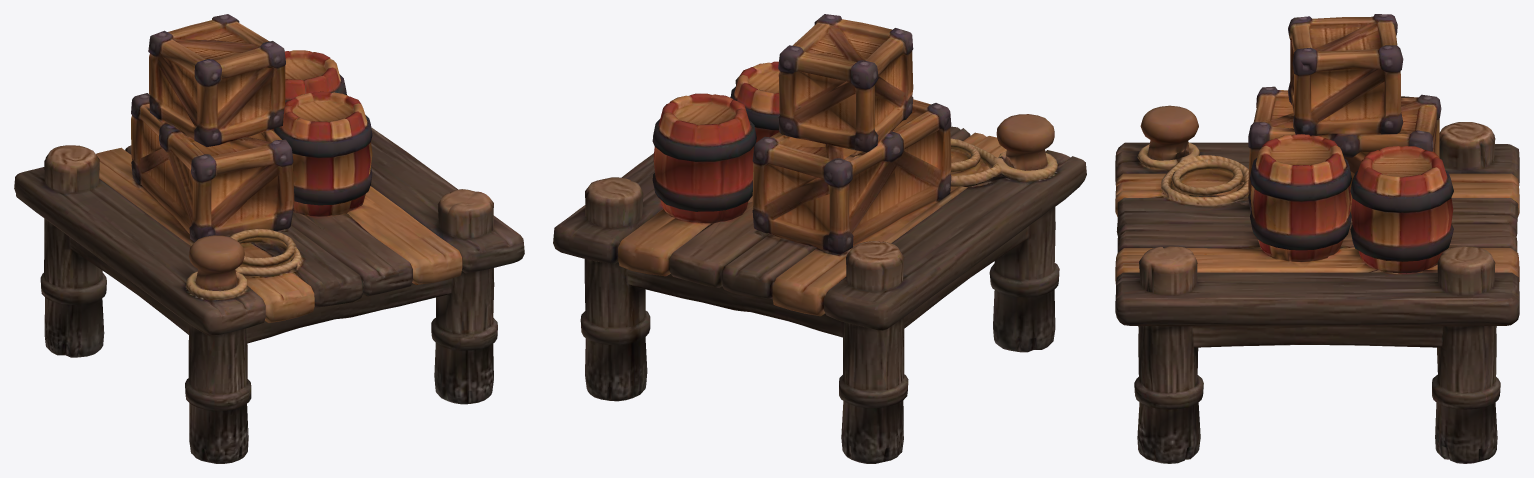
File: dock.glb
The picture shows the model from 3 angles, left to right: view 1: azimuth 30°, elevation 25°; view 2: azimuth 150°, elevation 25°; view 3: azimuth 270°, elevation 25°; orthographic projection. The views are drawn at different scales.
Parts seen in each view (by area): view 1: tripo_node_2a99af46-e046-47ce-a4e0-1328e61e78ed; view 2: tripo_node_2a99af46-e046-47ce-a4e0-1328e61e78ed; view 3: tripo_node_2a99af46-e046-47ce-a4e0-1328e61e78ed.
Boxes of the visible parts, x1,y1,x2,y2 form: tripo_node_2a99af46-e046-47ce-a4e0-1328e61e78ed: (14, 14, 524, 463); tripo_node_2a99af46-e046-47ce-a4e0-1328e61e78ed: (553, 14, 1086, 463); tripo_node_2a99af46-e046-47ce-a4e0-1328e61e78ed: (1115, 14, 1519, 463).
Size of the model in its own units: 0.9185 by 0.907 by 0.9799.
1 material, 1 textured.
